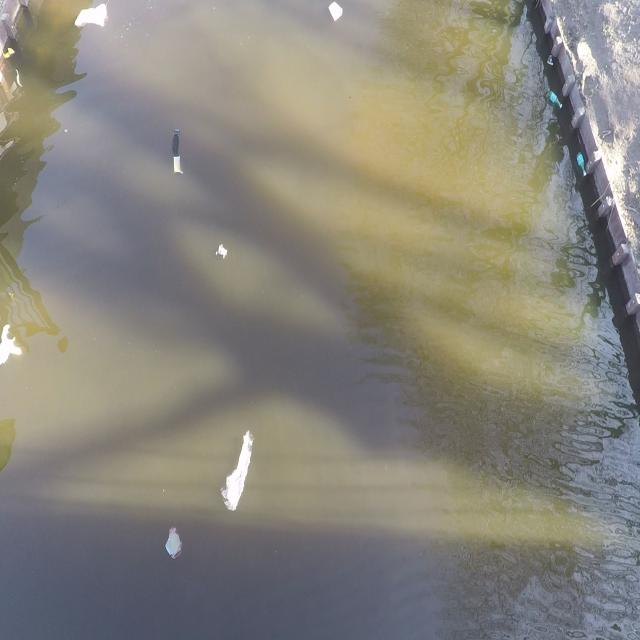Autre plastique: (172, 127, 180, 179)
